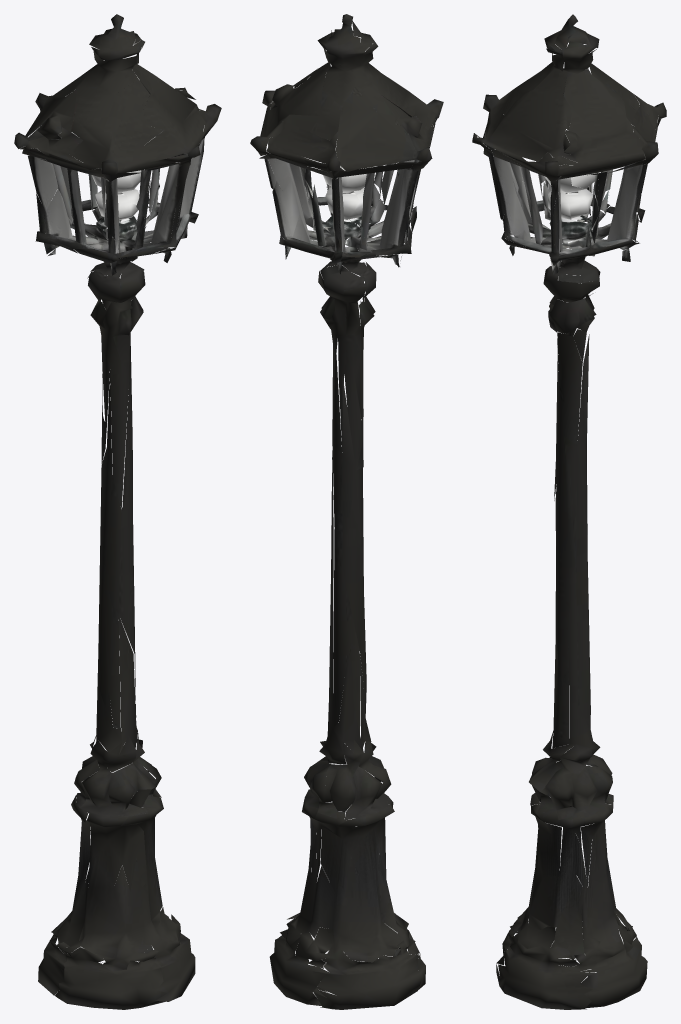
File: cp_gaslamp.glb
3 renders of one model, left to right at view 1: azimuth 30°, elevation 25°; view 2: azimuth 150°, elevation 25°; view 3: azimuth 270°, elevation 25°, orthographic.
Parts seen in each view (by area): view 1: tripo_node_eb8d982a-9450-405f-8a07-4f4504a45174; view 2: tripo_node_eb8d982a-9450-405f-8a07-4f4504a45174; view 3: tripo_node_eb8d982a-9450-405f-8a07-4f4504a45174.
Part boxes in pixels (box(x1,y1,x2,y2)): tripo_node_eb8d982a-9450-405f-8a07-4f4504a45174: box(14, 14, 221, 1009); tripo_node_eb8d982a-9450-405f-8a07-4f4504a45174: box(250, 14, 443, 1009); tripo_node_eb8d982a-9450-405f-8a07-4f4504a45174: box(472, 14, 666, 1009).
Bounding box in the file's own units: 0.2008 × 1 × 0.1828.
Materials: 1 (1 with a texture image).
